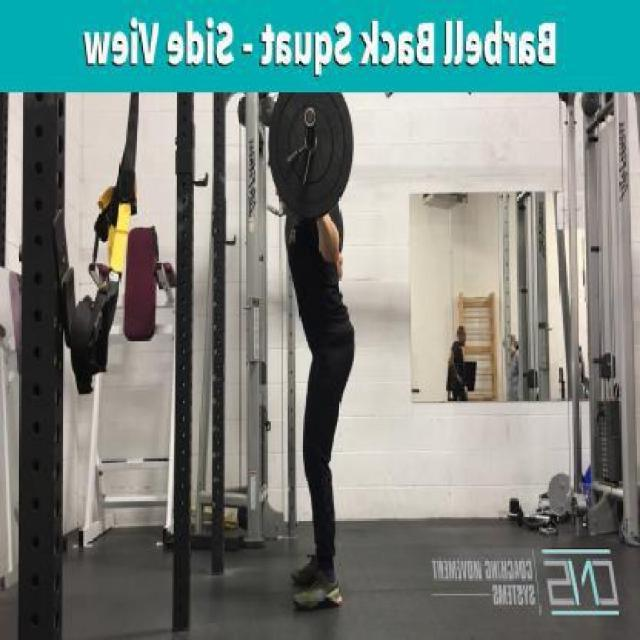Barbell: (298, 102, 318, 132)
